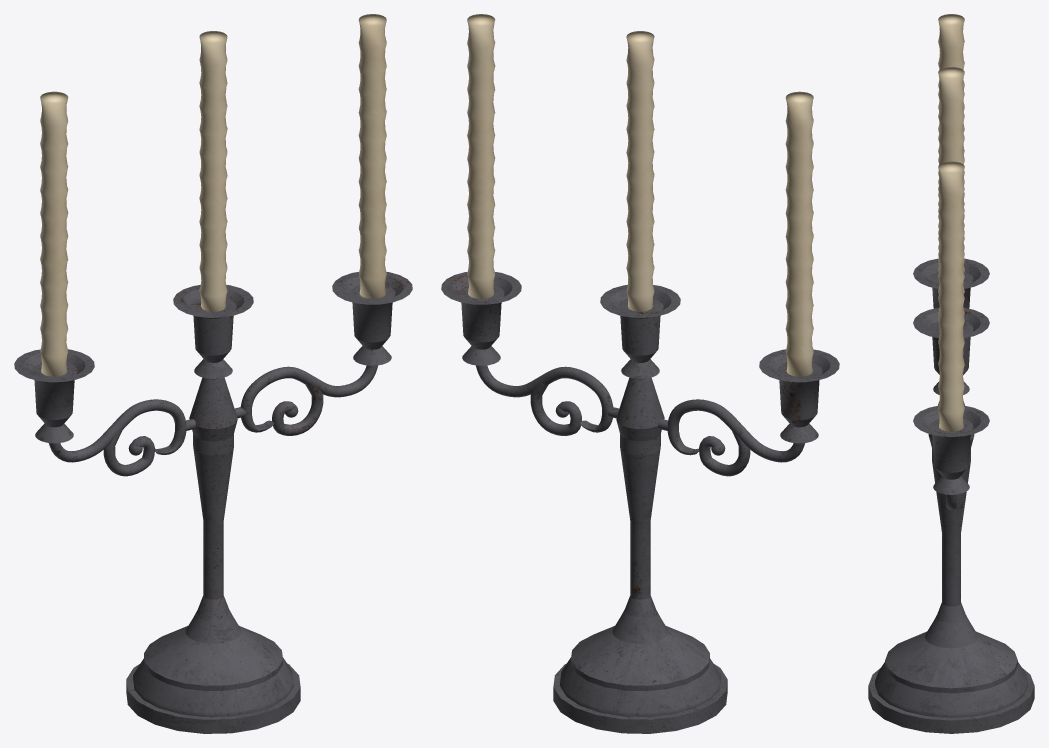
File: candelabra.glb
3 renders of one model, left to right at view 1: azimuth 30°, elevation 25°; view 2: azimuth 150°, elevation 25°; view 3: azimuth 270°, elevation 25°, orthographic. The views are drawn at different scales.
Parts seen in each view (by area): view 1: polySurface39; view 2: polySurface39; view 3: polySurface39.
Part boxes in pixels (box(x1,y1,x2,y2)): polySurface39: box(14, 14, 412, 733); polySurface39: box(441, 14, 839, 733); polySurface39: box(868, 14, 1034, 733).
Size of the model in its own units: 0.0512 by 0.0832 by 0.02.
Materials: 2 (2 with a texture image).
